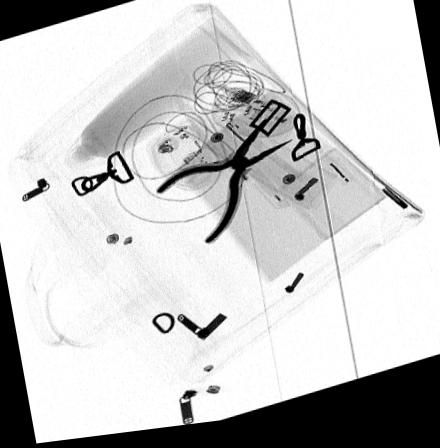Pliers: (155, 123, 295, 247)
